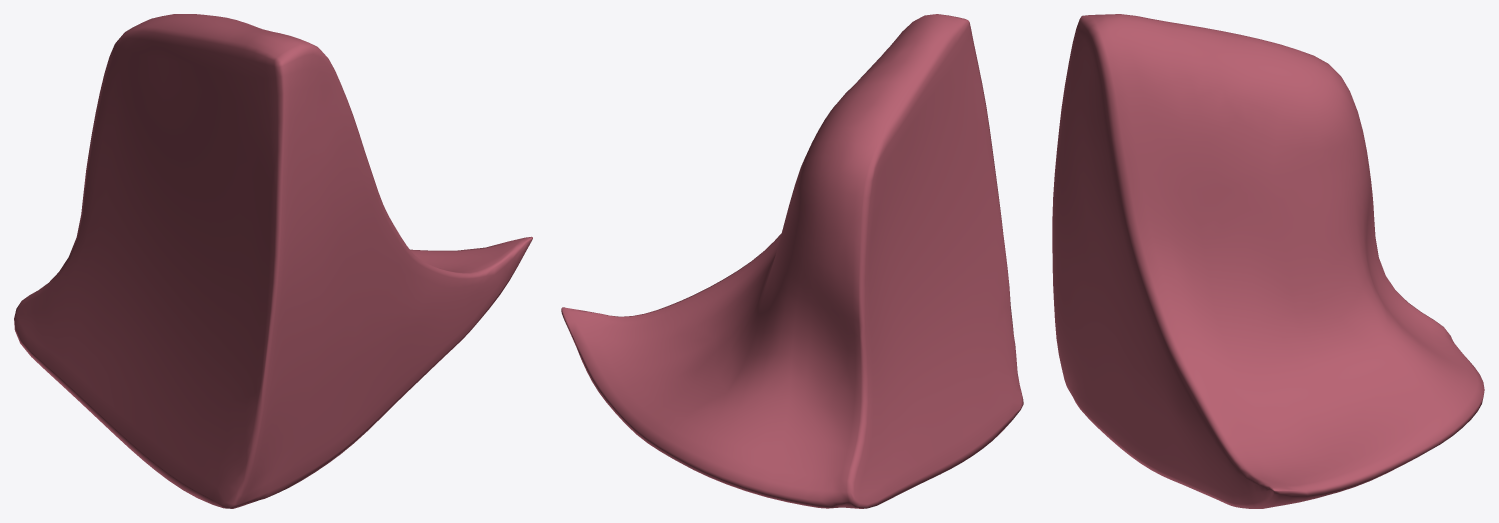
3 views of the same model, side by side, from view 1: azimuth 30°, elevation 25°; view 2: azimuth 150°, elevation 25°; view 3: azimuth 270°, elevation 25° (orthographic). The views are drawn at different scales.
Parts seen in each view (by area): view 1: 肝左外叶下段（第3段）; view 2: 肝左外叶下段（第3段）; view 3: 肝左外叶下段（第3段）.
Boxes of the visible parts, x1,y1,x2,y2 form: 肝左外叶下段（第3段）: (14, 14, 532, 508); 肝左外叶下段（第3段）: (561, 14, 1023, 508); 肝左外叶下段（第3段）: (1052, 14, 1484, 508).
Bounding box in the file's own units: 0.1111 × 0.1105 × 0.1044.
